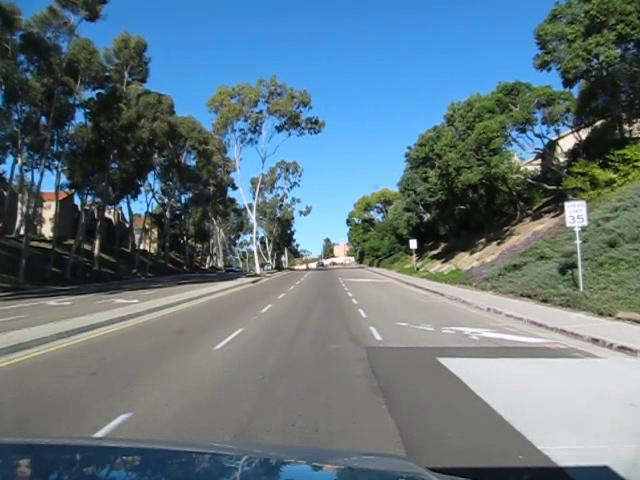speedLimit35: (563, 199, 587, 228)
